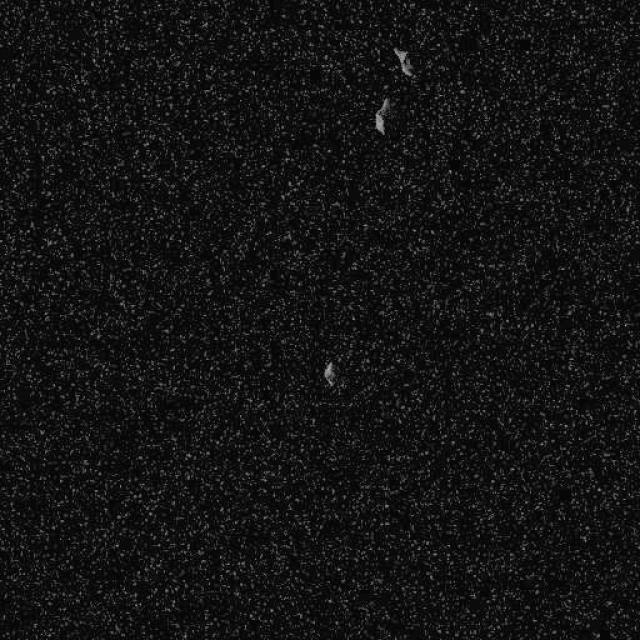D2: (391, 46, 415, 78), (374, 96, 390, 135), (321, 360, 335, 386)
